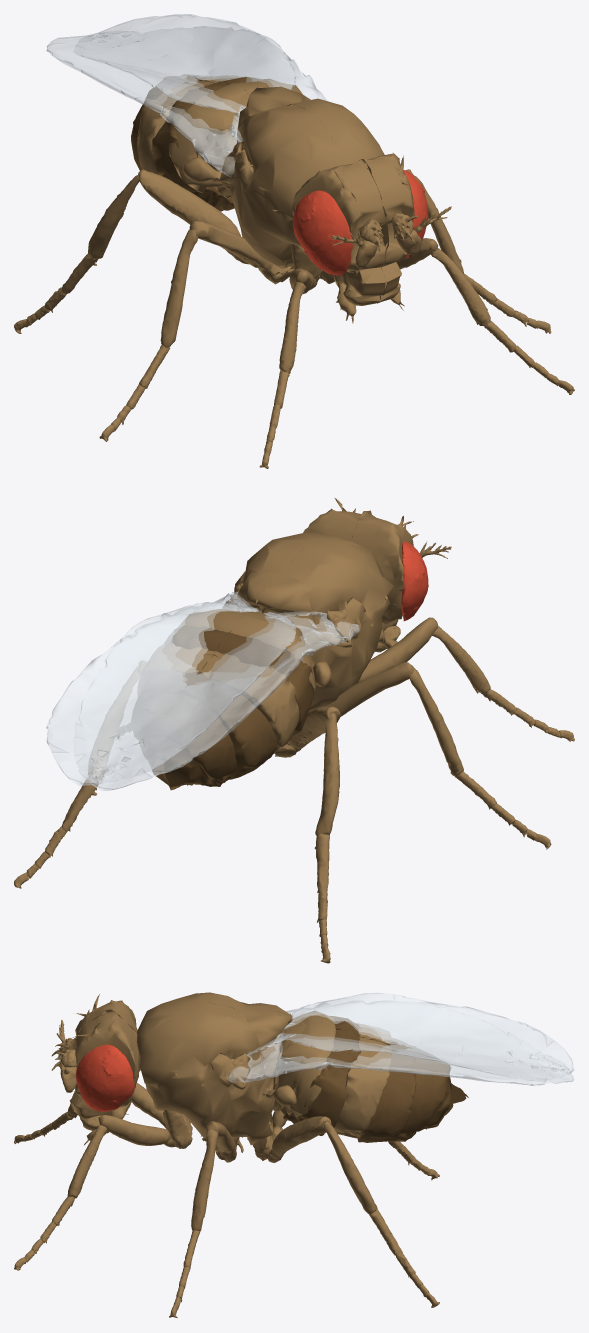
File: fly.glb
The picture shows the model from 3 angles, top to bottom: view 1: azimuth 30°, elevation 25°; view 2: azimuth 150°, elevation 25°; view 3: azimuth 270°, elevation 25°; orthographic projection. The views are drawn at different scales.
Visible parts, largest first — view 1: r_wing, c_thorax, l_wing, c_head, c_abdomen12, r_eye, c_abdomen3, rh_trochanterfemur, c_abdomen4, c_rostrum, rm_tibia, rm_trochanterfemur (+8 smaller); view 2: r_wing, l_wing, c_thorax, c_abdomen4, c_head, c_abdomen3, c_abdomen6, c_abdomen5, c_abdomen12, rh_tibia, rf_trochanterfemur, rm_trochanterfemur (+6 smaller); view 3: c_thorax, l_wing, r_wing, c_abdomen12, c_abdomen4, c_head, c_abdomen3, l_eye, c_abdomen5, c_abdomen6, lf_trochanterfemur, lh_trochanterfemur (+9 smaller).
Boxes of the visible parts, bbox=[...] form: r_wing: bbox=[46, 26, 295, 177]; c_thorax: bbox=[219, 86, 384, 268]; l_wing: bbox=[73, 14, 327, 112]; c_head: bbox=[292, 153, 414, 272]; c_abdomen12: bbox=[168, 80, 302, 198]; r_eye: bbox=[293, 190, 352, 275]; c_abdomen3: bbox=[152, 76, 277, 211]; rh_trochanterfemur: bbox=[138, 169, 248, 264]; c_abdomen4: bbox=[137, 75, 239, 174]; c_rostrum: bbox=[333, 262, 404, 323]; rm_tibia: bbox=[160, 229, 197, 347]; rm_trochanterfemur: bbox=[189, 221, 279, 284]; r_wing: bbox=[73, 602, 360, 790]; l_wing: bbox=[46, 591, 295, 785]; c_thorax: bbox=[223, 532, 396, 710]; c_abdomen4: bbox=[161, 643, 299, 754]; c_head: bbox=[303, 497, 413, 624]; c_abdomen3: bbox=[170, 625, 314, 736]; c_abdomen6: bbox=[152, 718, 236, 790]; c_abdomen5: bbox=[182, 671, 277, 779]; c_abdomen12: bbox=[181, 609, 315, 703]; rh_tibia: bbox=[315, 713, 339, 835]; rf_trochanterfemur: bbox=[357, 617, 438, 683]; rm_trochanterfemur: bbox=[324, 662, 414, 716]; c_thorax: bbox=[137, 992, 292, 1145]; l_wing: bbox=[227, 992, 574, 1085]; r_wing: bbox=[279, 1000, 574, 1081]; c_abdomen12: bbox=[273, 1011, 335, 1117]; c_abdomen4: bbox=[334, 1023, 391, 1138]; c_head: bbox=[69, 994, 140, 1107]; c_abdomen3: bbox=[283, 1016, 361, 1135]; l_eye: bbox=[75, 1044, 134, 1111]; c_abdomen5: bbox=[357, 1040, 416, 1142]; c_abdomen6: bbox=[390, 1058, 468, 1141]; lf_trochanterfemur: bbox=[98, 1115, 175, 1147]; lh_trochanterfemur: bbox=[268, 1116, 331, 1162].
Size of the model in its own units: 3.01 by 1.82 by 3.82.
